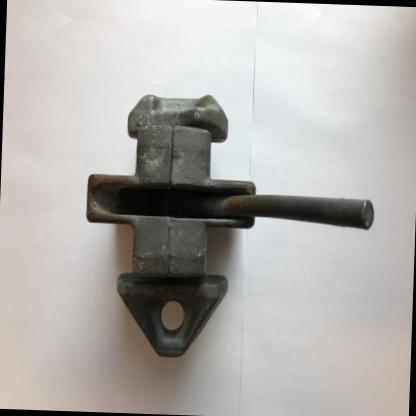Twistlock: (79, 84, 383, 373)
